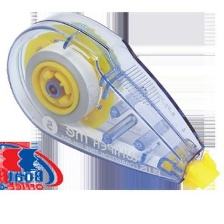correction_fluid: (4, 10, 221, 192)
